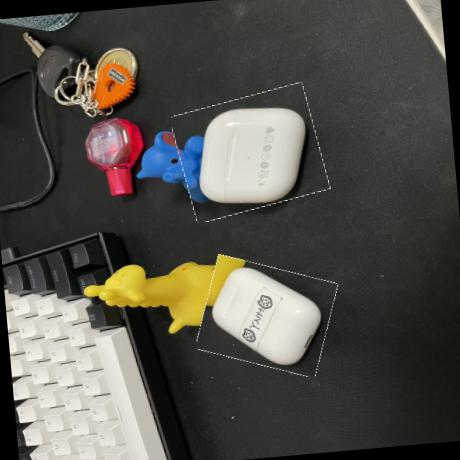airpod2: (195, 253, 339, 378)
airpod3: (172, 87, 328, 220)
